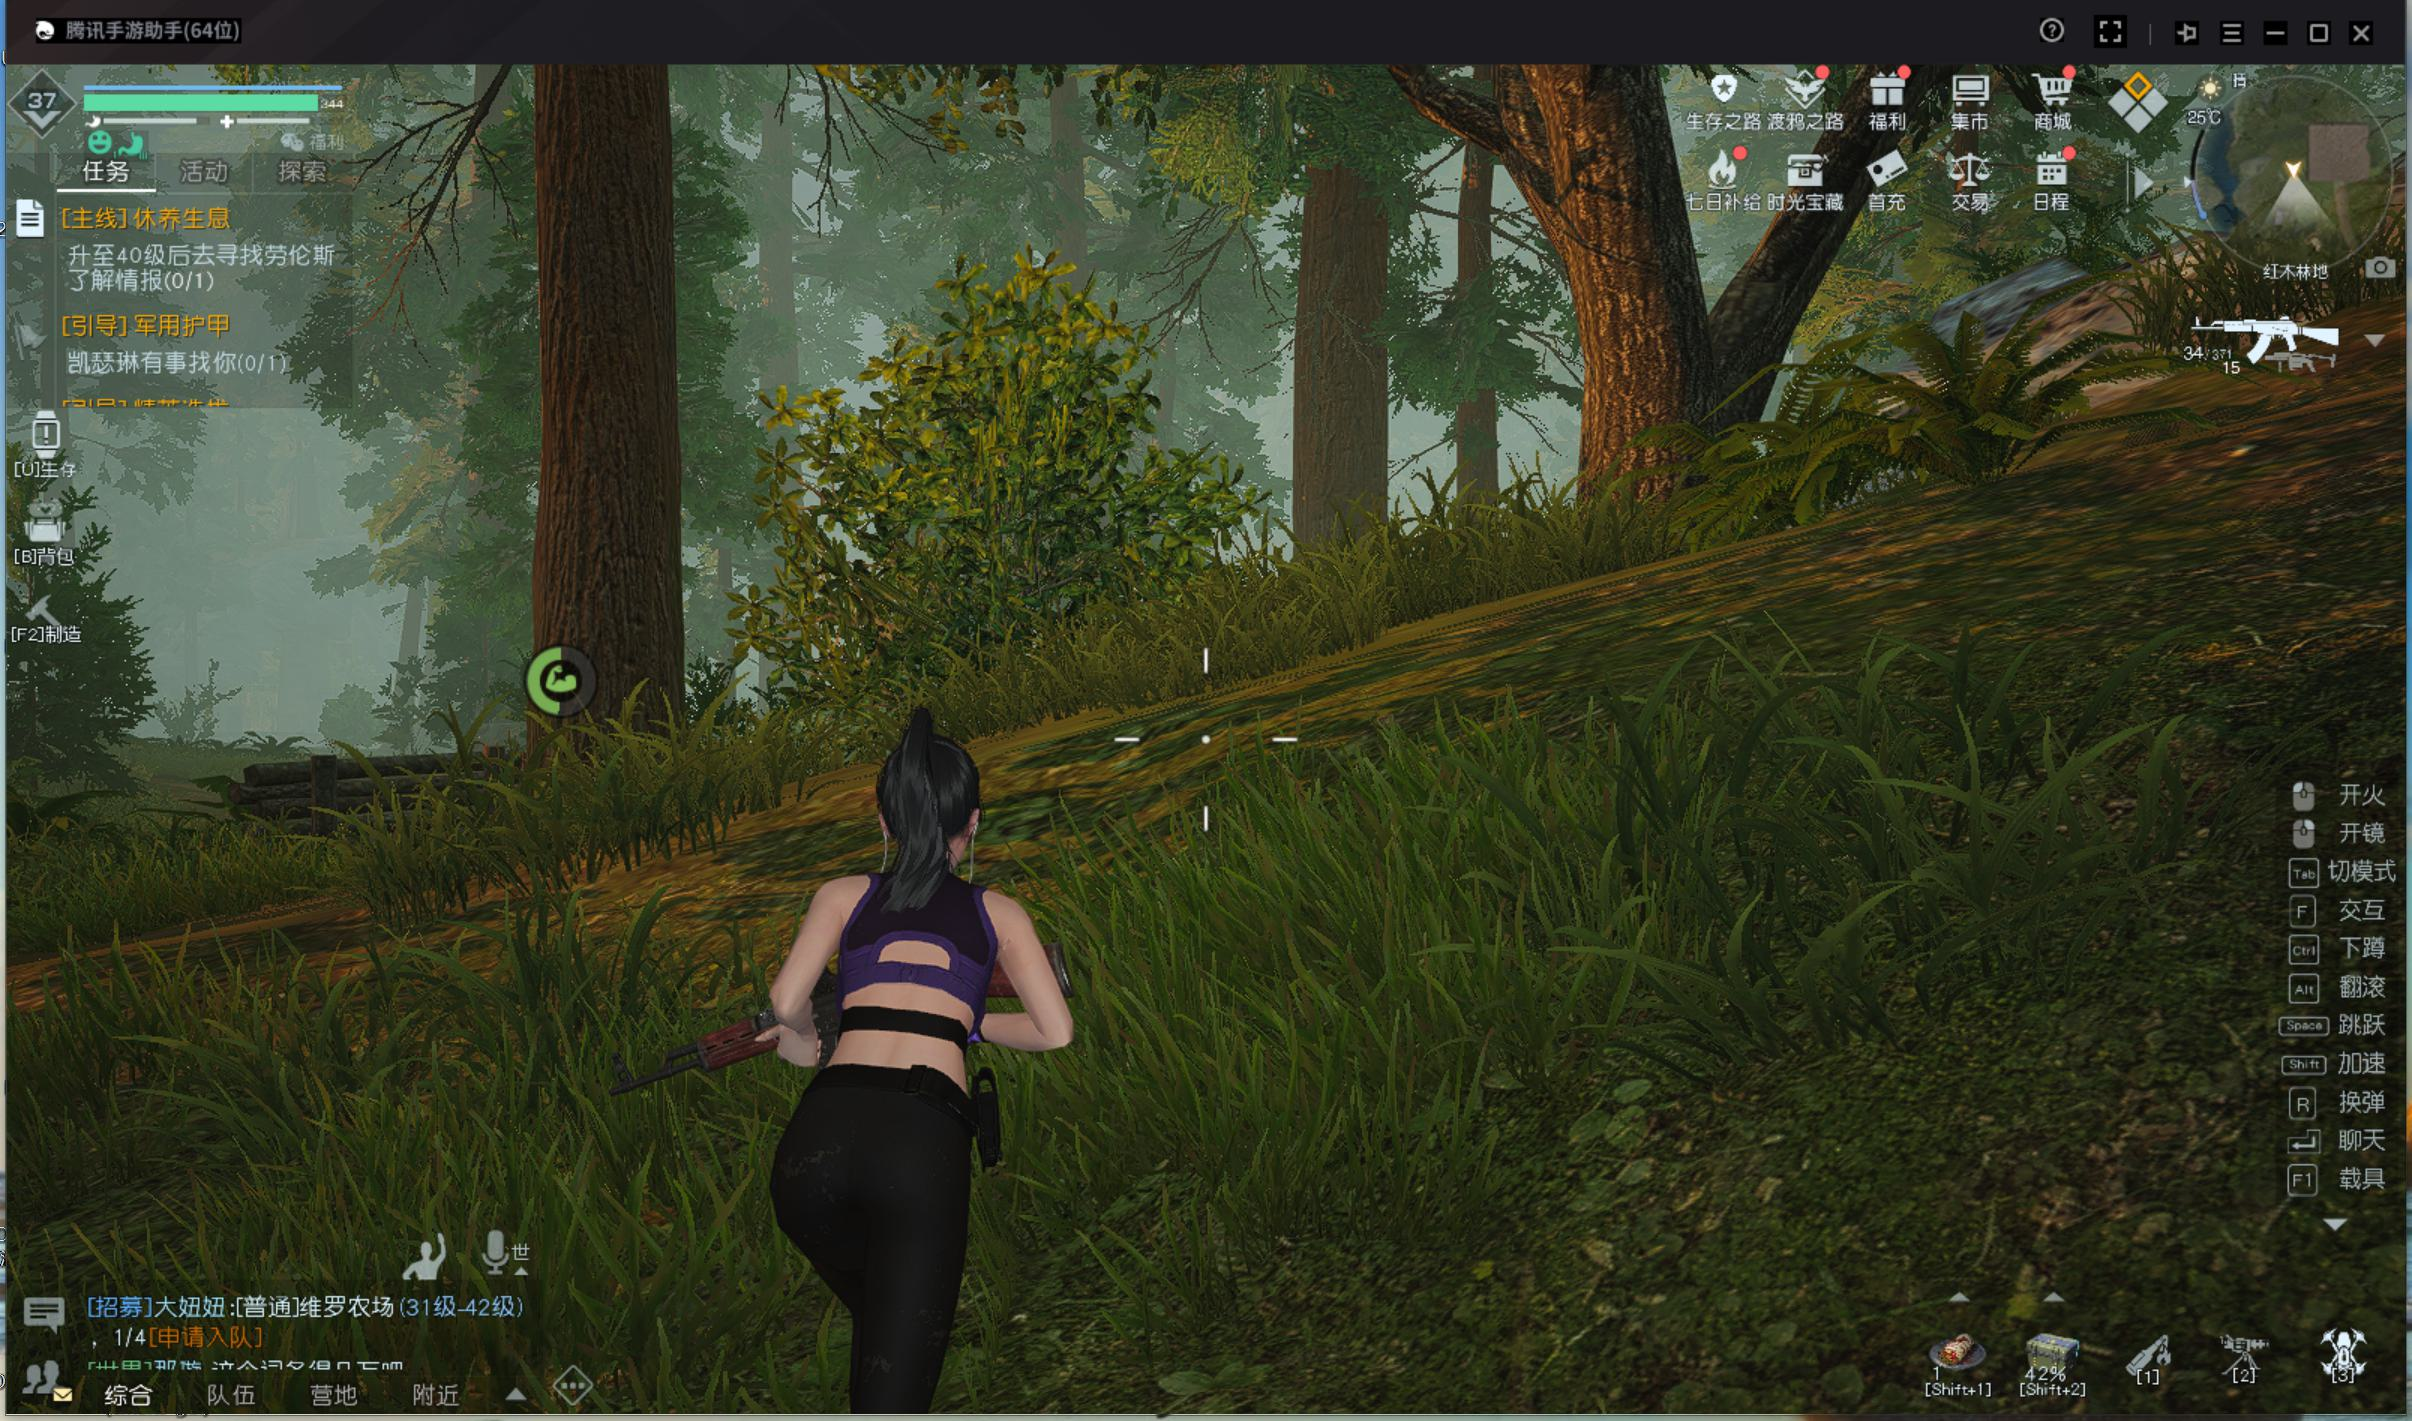tree: (514, 80, 692, 775), (1274, 171, 1404, 602)
